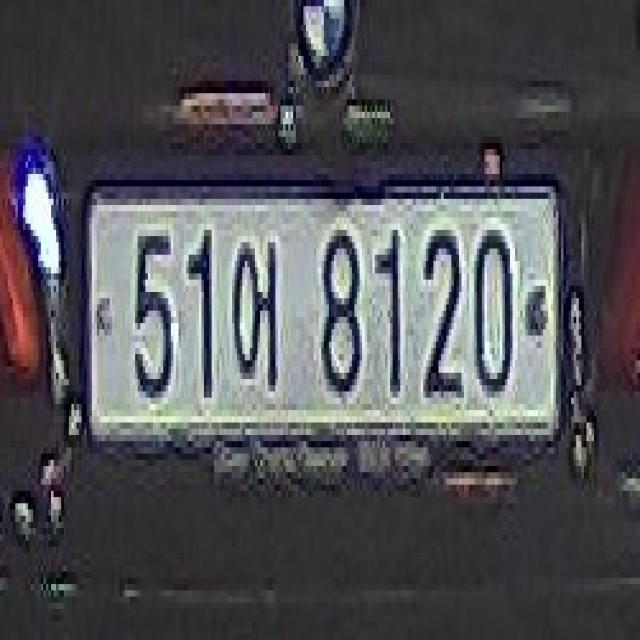0: (466, 228, 518, 398)
1: (368, 218, 408, 408), (182, 222, 221, 412)
2: (420, 232, 464, 416)
5: (130, 218, 178, 412)
8: (312, 222, 366, 414)
eo: (226, 230, 283, 398)
license_plate: (80, 165, 566, 464)
